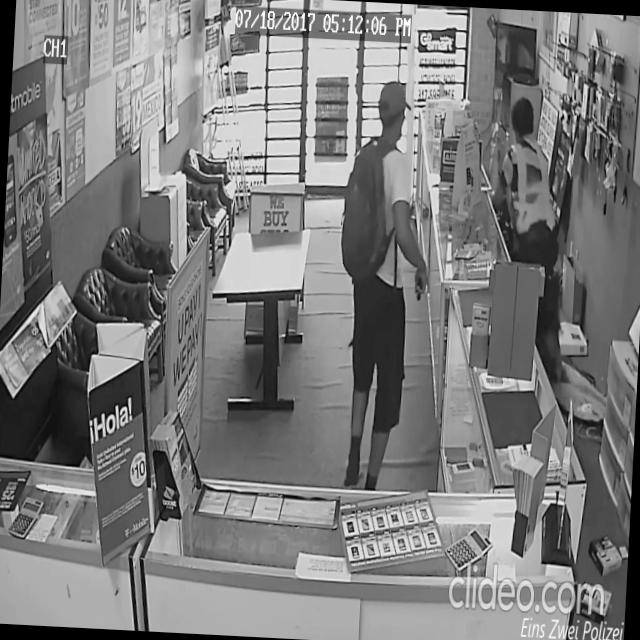gun: (413, 268, 428, 306)
person: (484, 90, 582, 384)
person with a gun: (328, 75, 440, 492)
